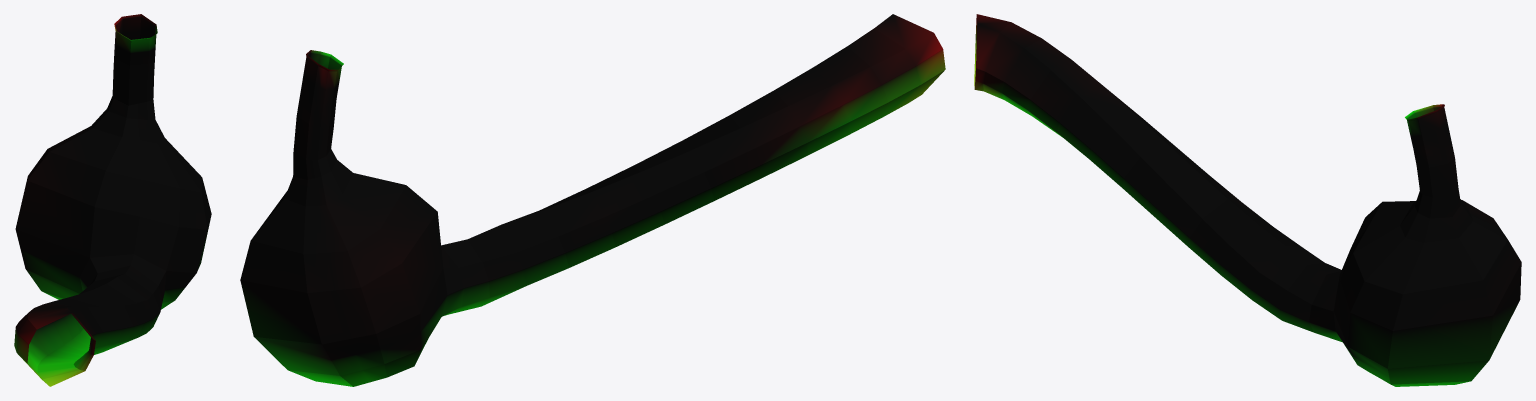
Rendered from MiningTunnel_3.obj.
3 renders of one model, left to right at view 1: azimuth 30°, elevation 25°; view 2: azimuth 150°, elevation 25°; view 3: azimuth 270°, elevation 25°, orthographic. The views are drawn at different scales.
Visible parts, largest first — view 1: Basin; view 2: Basin; view 3: Basin.
Boxes of the visible parts, x1,y1,x2,y2 form: Basin: (14,14,211,386); Basin: (240,14,945,386); Basin: (974,14,1521,386).
Bounding box in the file's own units: 36.35 × 25.18 × 43.74.
